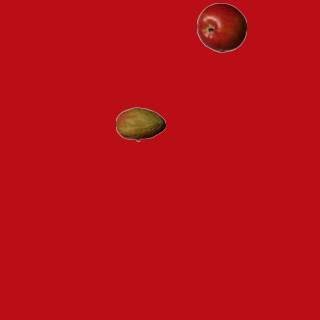Apple Braeburn: (196, 2, 246, 52)
Papaya: (115, 99, 165, 149)
